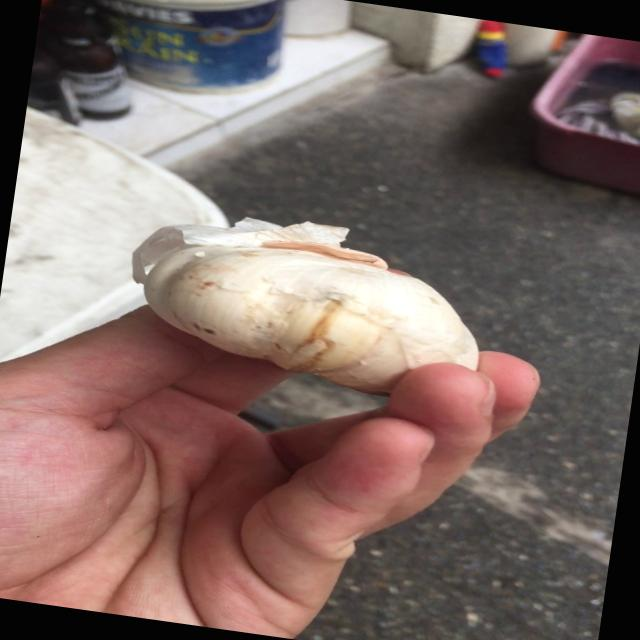garlic: (123, 197, 510, 416)
